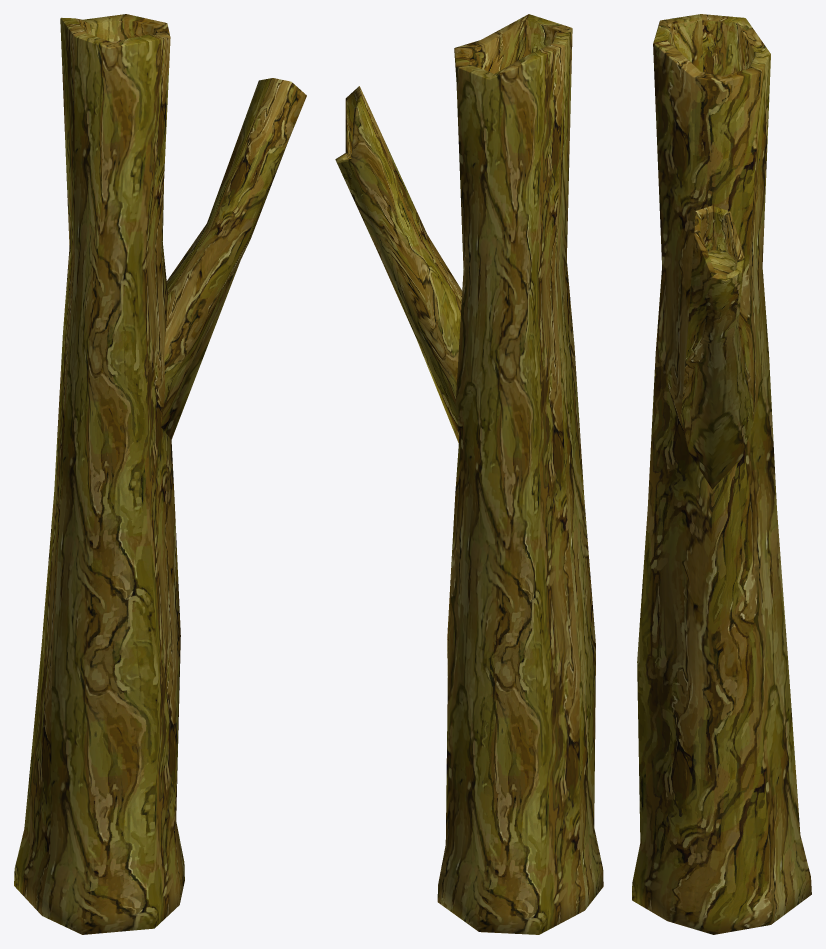
File: hut_env_treestump_02.glb
The picture shows the model from 3 angles, left to right: view 1: azimuth 30°, elevation 25°; view 2: azimuth 150°, elevation 25°; view 3: azimuth 270°, elevation 25°; orthographic projection. The views are drawn at different scales.
Visible parts, largest first — view 1: hut_env_treestump_02; view 2: hut_env_treestump_02; view 3: hut_env_treestump_02.
Part boxes in pixels (x1,y1,x2,y2): hut_env_treestump_02: (14,14,306,934); hut_env_treestump_02: (335,14,603,934); hut_env_treestump_02: (632,14,811,934).
Bounding box in the file's own units: 0.1347 × 0.4425 × 0.0833.
Materials: 1 (1 with a texture image).
